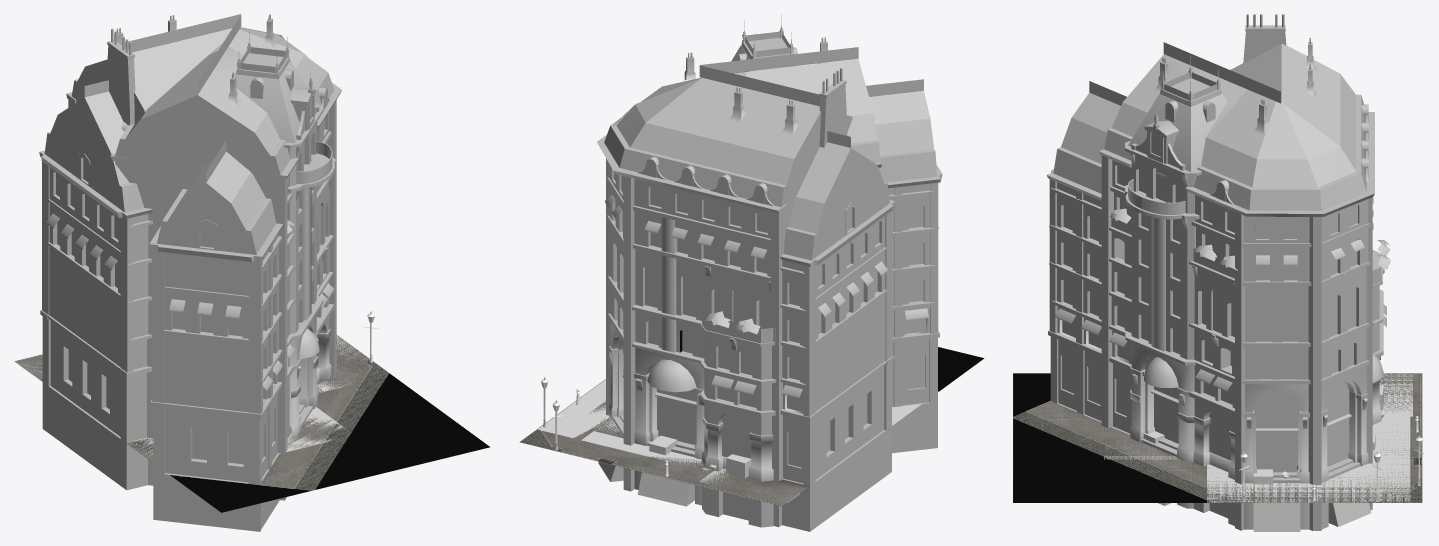
Rendered from narrow.gltf.
3 views of the same model, side by side, from view 1: azimuth 30°, elevation 25°; view 2: azimuth 150°, elevation 25°; view 3: azimuth 270°, elevation 25° (orthographic). The views are drawn at different scales.
Visible parts, largest first — view 1: _lod0, decal, BuildBlocker.001; view 2: _lod0, decal, FeedbackBlocker1.001, FeedbackBlocker1.004, FeedbackBlocker1.002; view 3: _lod0, decal, BuildBlocker.002, BuildBlocker.
Part boxes in pixels (box(x1,y1,x2,y2)): _lod0: box(39, 14, 341, 531); decal: box(15, 335, 489, 512); BuildBlocker.001: box(280, 407, 348, 453); _lod0: box(597, 14, 942, 531); decal: box(519, 330, 984, 506); FeedbackBlocker1.001: box(538, 379, 605, 434); FeedbackBlocker1.004: box(581, 431, 702, 466); FeedbackBlocker1.002: box(559, 406, 609, 437); _lod0: box(1047, 14, 1390, 531); decal: box(1013, 373, 1422, 502); BuildBlocker.002: box(1207, 416, 1410, 502); BuildBlocker: box(1380, 373, 1412, 416).
Size of what is drawn, in the model's own units: 3.18 by 4.52 by 4.03.
